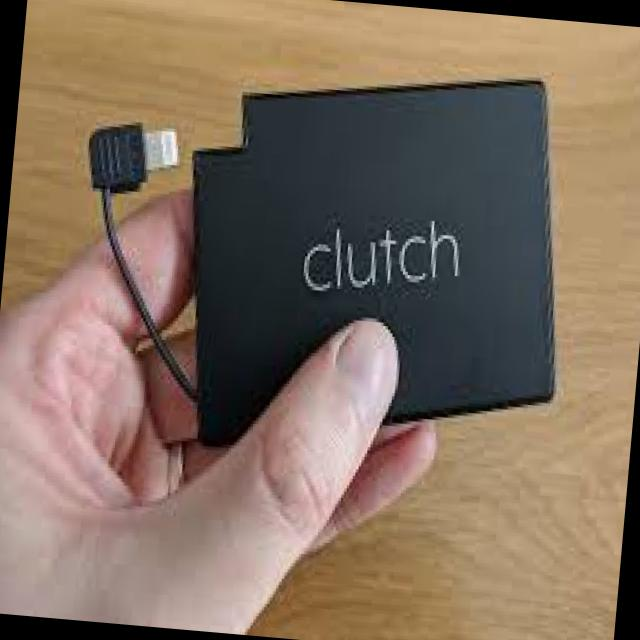power_bank: (170, 48, 586, 474)
